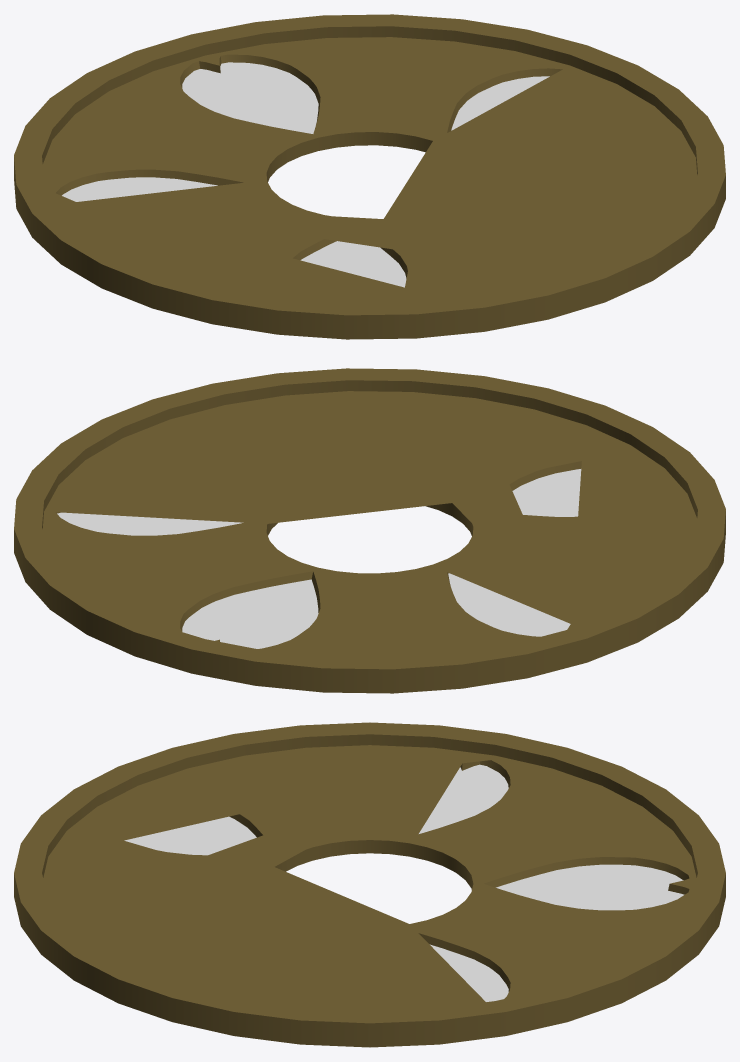
File: Koban3.fbx
The picture shows the model from 3 angles, top to bottom: view 1: azimuth 30°, elevation 25°; view 2: azimuth 150°, elevation 25°; view 3: azimuth 270°, elevation 25°; orthographic projection.
Parts seen in each view (by area): view 1: 円柱.001; view 2: 円柱.001; view 3: 円柱.001.
Boxes of the visible parts, left/top/right/bottom form: 円柱.001: left=14, top=14, right=725, bottom=339; 円柱.001: left=14, top=368, right=725, bottom=693; 円柱.001: left=14, top=722, right=725, bottom=1047.
Bounding box in the file's own units: 0.4929 × 0.0184 × 0.4929.
